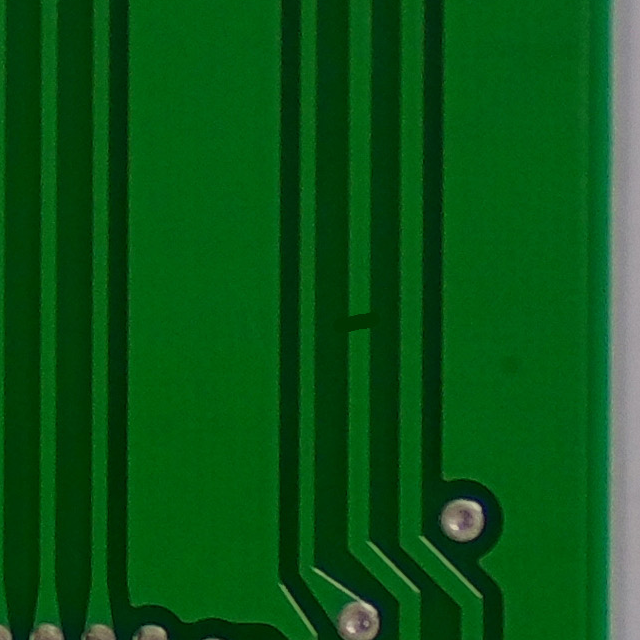open_circuit: (331, 292, 380, 348)
